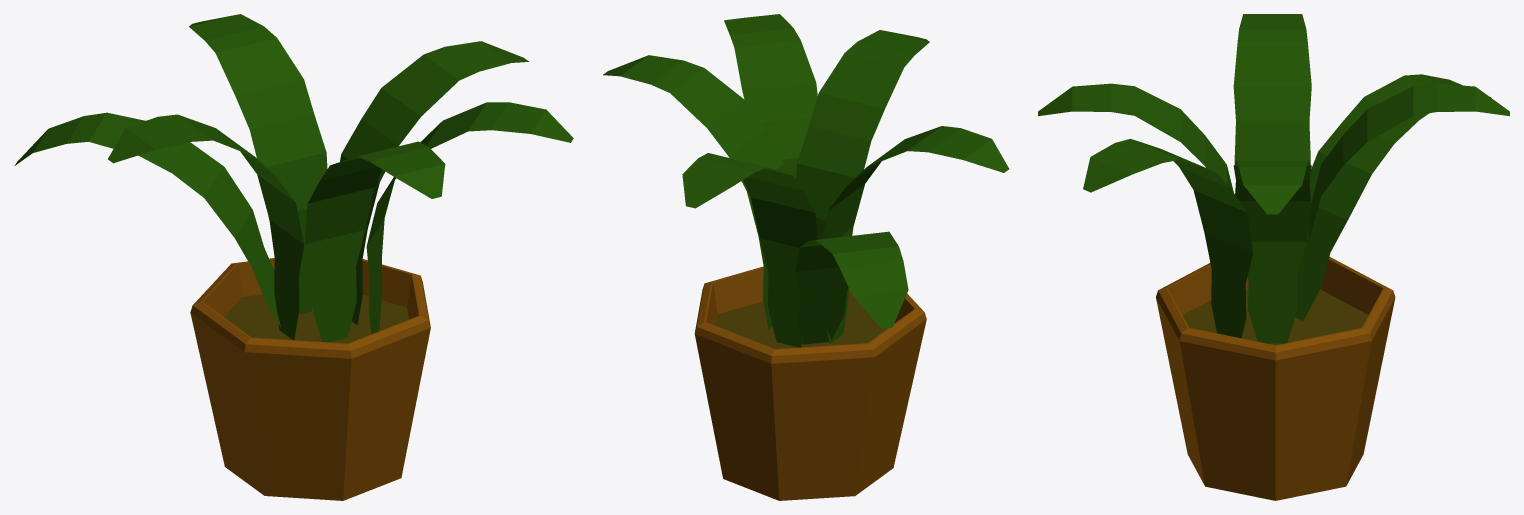
File: Plant.fbx
The picture shows the model from 3 angles, left to right: view 1: azimuth 30°, elevation 25°; view 2: azimuth 150°, elevation 25°; view 3: azimuth 270°, elevation 25°; orthographic projection. The views are drawn at different scales.
Parts seen in each view (by area): view 1: Pot, Leaf, Leaf3, Leaf2, Leaf5, Leaf1, Leaf4; view 2: Pot, Leaf3, Leaf, Leaf5, Leaf4, Leaf2, Leaf1; view 3: Pot, Leaf1, Leaf2, Leaf4, Leaf5, Leaf, Leaf3.
Boxes of the visible parts, x1=… form: Pot: x1=190, y1=258, x2=430, y2=500; Leaf: x1=189, y1=14, x2=327, y2=314; Leaf3: x1=304, y1=141, x2=445, y2=342; Leaf2: x1=340, y1=41, x2=528, y2=325; Leaf5: x1=14, y1=112, x2=281, y2=327; Leaf1: x1=108, y1=114, x2=304, y2=340; Leaf4: x1=366, y1=102, x2=573, y2=334; Pot: x1=694, y1=266, x2=926, y2=500; Leaf3: x1=796, y1=30, x2=929, y2=239; Leaf: x1=682, y1=153, x2=817, y2=347; Leaf5: x1=795, y1=231, x2=908, y2=344; Leaf4: x1=724, y1=14, x2=817, y2=178; Leaf2: x1=603, y1=55, x2=785, y2=329; Leaf1: x1=822, y1=126, x2=1009, y2=344; Pot: x1=1156, y1=256, x2=1395, y2=500; Leaf1: x1=1233, y1=14, x2=1311, y2=280; Leaf2: x1=1233, y1=160, x2=1311, y2=343; Leaf4: x1=1083, y1=138, x2=1252, y2=338; Leaf5: x1=1295, y1=74, x2=1491, y2=320; Leaf: x1=1309, y1=83, x2=1509, y2=239; Leaf3: x1=1038, y1=83, x2=1233, y2=192.
Size of the model in its own units: 78.68 by 66.97 by 78.45.
